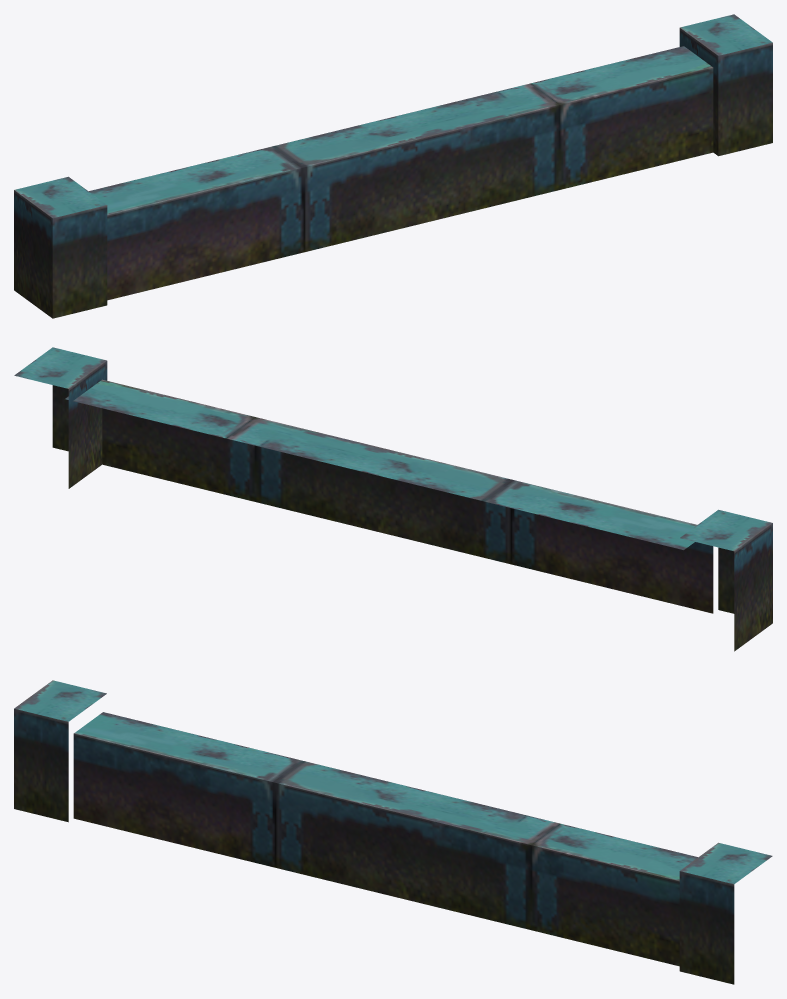
The model's file is yw_huanghunbianjing_luyan01.FBX.
3 views of the same model, one above another, from view 1: azimuth 30°, elevation 25°; view 2: azimuth 150°, elevation 25°; view 3: azimuth 330°, elevation 25° (orthographic).
Visible parts, largest first — view 1: yw_huanghunbianjing_luyan01; view 2: yw_huanghunbianjing_luyan01; view 3: yw_huanghunbianjing_luyan01.
Part boxes in pixels (x1,y1,x2,y2): yw_huanghunbianjing_luyan01: (14, 14, 772, 318); yw_huanghunbianjing_luyan01: (14, 347, 772, 651); yw_huanghunbianjing_luyan01: (14, 680, 772, 984).
Size of the model in its own units: 269 by 35.86 by 25.11.
